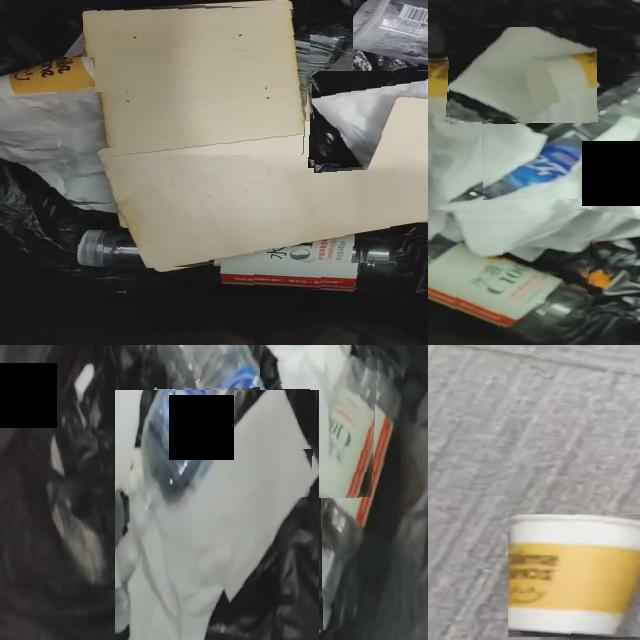bottle: (157, 345, 298, 533), (310, 360, 401, 630), (482, 76, 640, 200), (428, 239, 589, 338), (220, 240, 414, 289), (353, 0, 428, 65), (77, 230, 152, 269)
carton: (103, 106, 428, 269), (83, 6, 307, 155)
dixie_cup: (508, 514, 640, 636), (428, 63, 519, 117), (0, 57, 95, 97)
paper: (117, 390, 319, 640), (428, 95, 640, 262), (269, 345, 361, 499), (449, 27, 597, 120), (0, 92, 114, 205), (313, 83, 428, 170), (293, 450, 311, 498)
